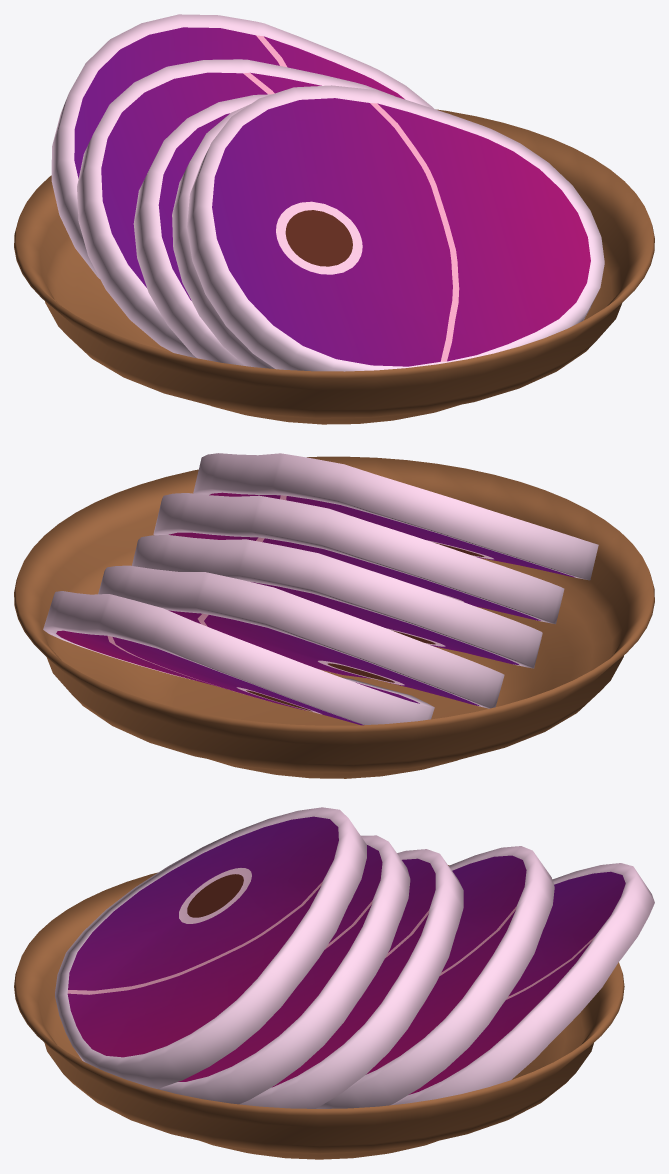
The model's file is demon_meat.glb.
3 views of the same model, one above another, from view 1: azimuth 30°, elevation 25°; view 2: azimuth 150°, elevation 25°; view 3: azimuth 270°, elevation 25° (orthographic). The views are drawn at different scales.
Visible parts, largest first — view 1: plate; view 2: plate; view 3: plate.
Boxes of the visible parts, box(x1,y1,x2,y2) form: plate: box(14, 14, 654, 424); plate: box(14, 453, 654, 778); plate: box(14, 807, 654, 1159).
Size of the model in its own units: 0.542 by 0.2418 by 0.569.
2 materials, 1 textured.
